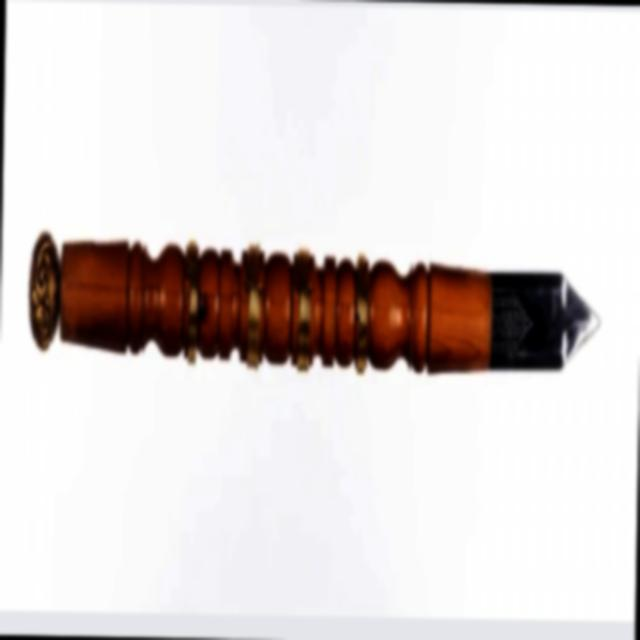spear: (19, 190, 609, 436)
